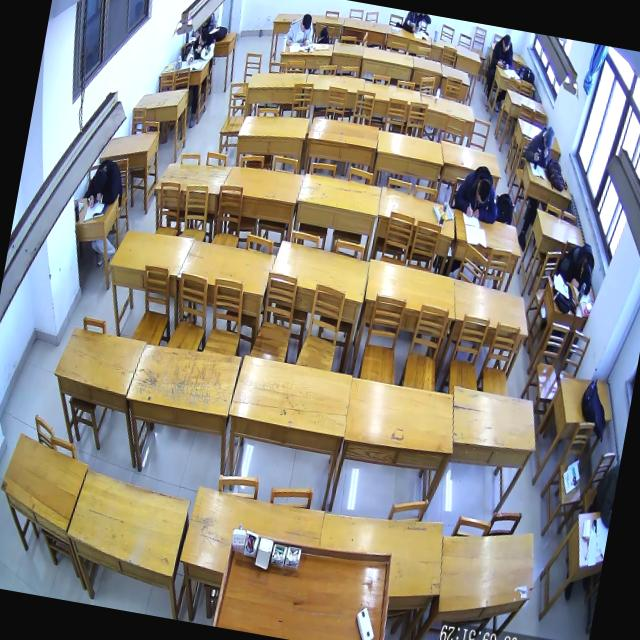bow: (450, 161, 504, 224), (84, 156, 128, 212), (557, 239, 598, 295)
down: (474, 178, 492, 205), (92, 168, 108, 195), (541, 128, 554, 150), (300, 12, 312, 34), (198, 27, 210, 46), (500, 32, 511, 52)
sit: (523, 124, 555, 168), (185, 26, 218, 68), (283, 10, 315, 50), (490, 31, 517, 70)
